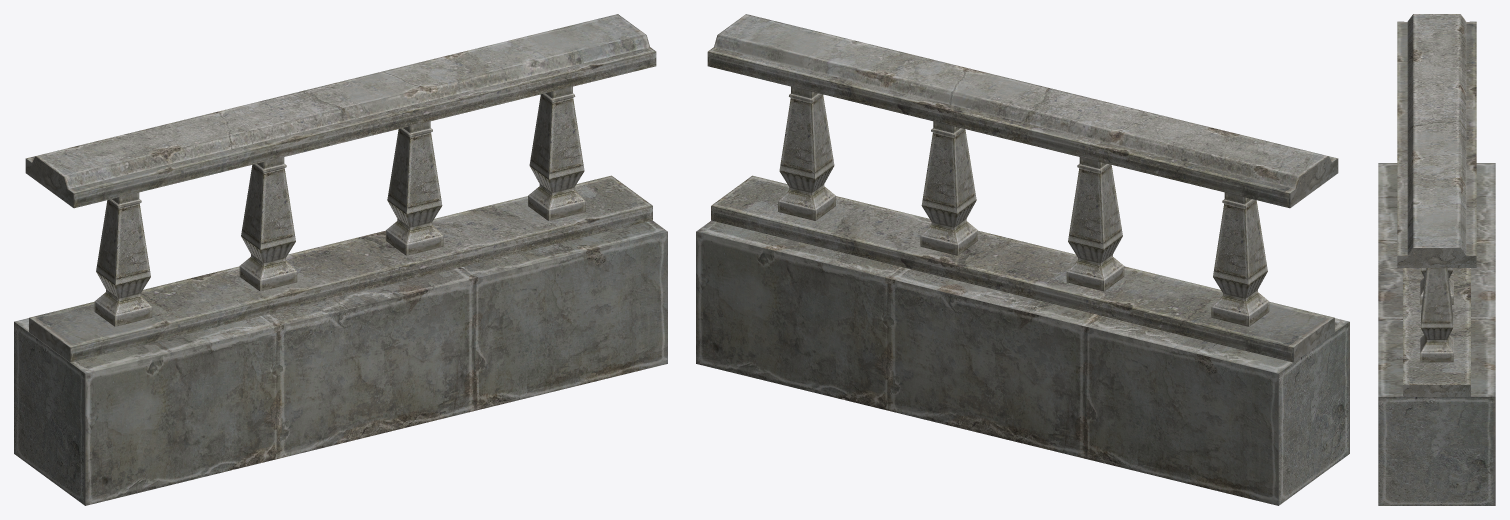
The model's file is bg_lut_lucastle_stairfence02b_sm_kss.FBX.
3 views of the same model, side by side, from view 1: azimuth 30°, elevation 25°; view 2: azimuth 150°, elevation 25°; view 3: azimuth 270°, elevation 25° (orthographic). The views are drawn at different scales.
Parts seen in each view (by area): view 1: bg_lut_lucastle_stairfence02b_sm_kss; view 2: bg_lut_lucastle_stairfence02b_sm_kss; view 3: bg_lut_lucastle_stairfence02b_sm_kss.
Part boxes in pixels (x1=…): bg_lut_lucastle_stairfence02b_sm_kss: x1=14, y1=14, x2=667, y2=505; bg_lut_lucastle_stairfence02b_sm_kss: x1=696, y1=14, x2=1349, y2=505; bg_lut_lucastle_stairfence02b_sm_kss: x1=1378, y1=14, x2=1495, y2=505.
Bounding box in the file's own units: 288 × 148 × 60.96.
